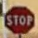stop: (3, 5, 34, 33)
